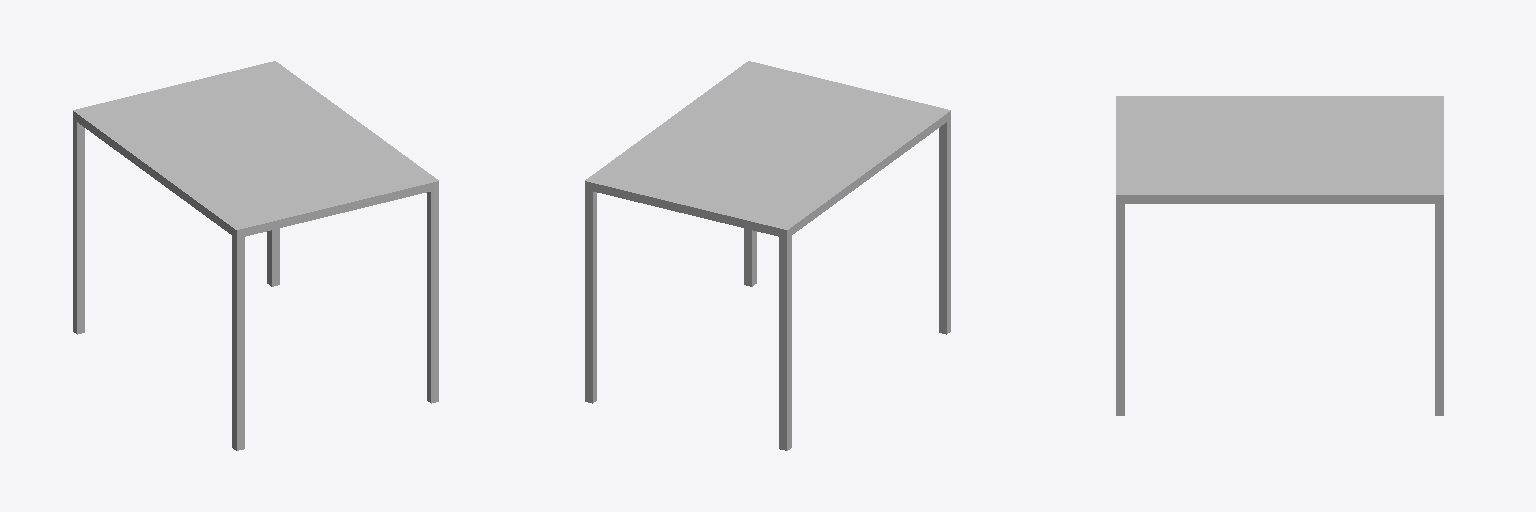
The model's file is ShelfMesh.obj.
3 views of the same model, side by side, from view 1: azimuth 30°, elevation 25°; view 2: azimuth 150°, elevation 25°; view 3: azimuth 270°, elevation 25° (orthographic).
Bounding box in the file's own units: 500 × 520 × 700.